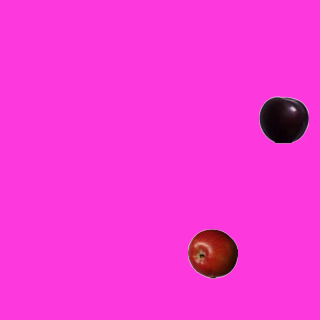Apple Braeburn: (187, 228, 237, 278)
Cherry Wax Black: (258, 94, 308, 144)
